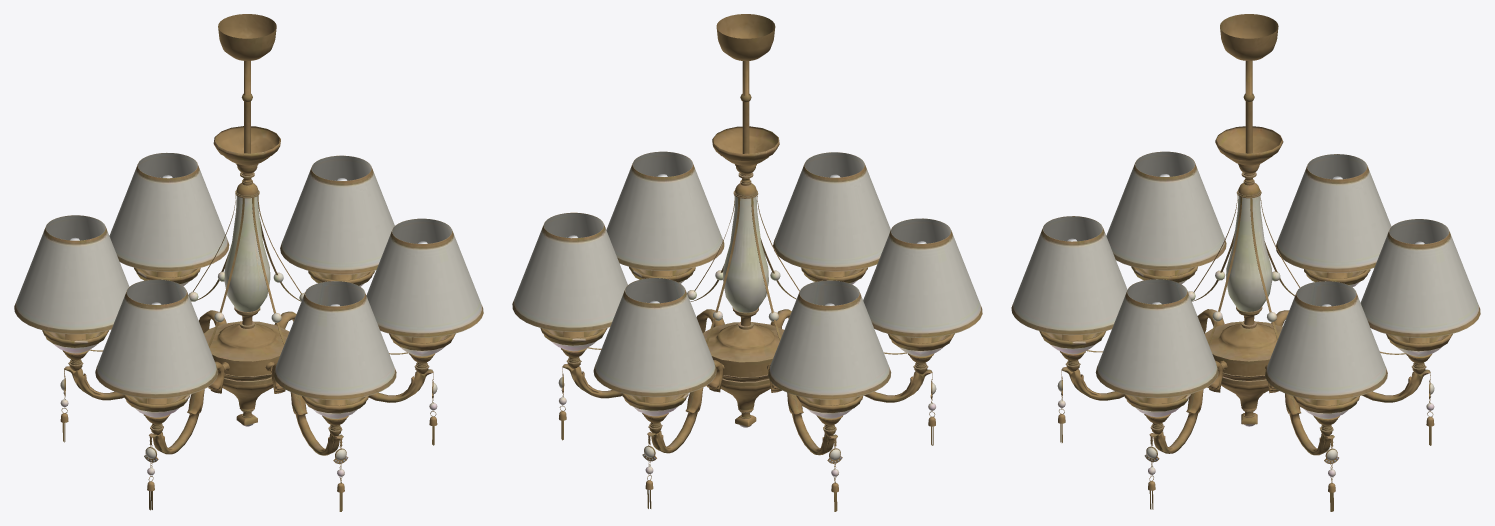
3 renders of one model, left to right at view 1: azimuth 30°, elevation 25°; view 2: azimuth 150°, elevation 25°; view 3: azimuth 270°, elevation 25°, orthographic.
Visible parts, largest first — view 1: Chandelier_01; view 2: Chandelier_01; view 3: Chandelier_01.
Part boxes in pixels (x1=…): Chandelier_01: x1=14, y1=14, x2=483, y2=511; Chandelier_01: x1=512, y1=14, x2=982, y2=511; Chandelier_01: x1=1011, y1=14, x2=1480, y2=511.
Size of the model in its own units: 0.7465 by 0.7983 by 0.8155.
2 materials, 1 textured.
